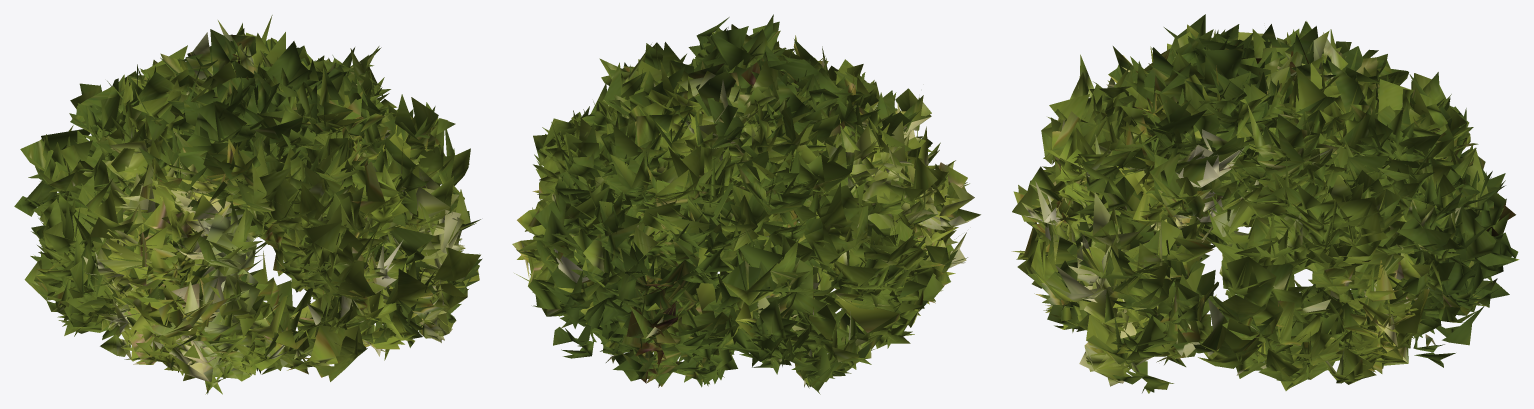
File: bush01.glb
3 renders of one model, left to right at view 1: azimuth 30°, elevation 25°; view 2: azimuth 150°, elevation 25°; view 3: azimuth 270°, elevation 25°, orthographic. The views are drawn at different scales.
Parts seen in each view (by area): view 1: Bush Acer Platanoides ShurbSymmetry N160219; view 2: Bush Acer Platanoides ShurbSymmetry N160219; view 3: Bush Acer Platanoides ShurbSymmetry N160219.
Part boxes in pixels (<box>): Bush Acer Platanoides ShurbSymmetry N160219: <box>14,15,482,394</box>; Bush Acer Platanoides ShurbSymmetry N160219: <box>512,14,980,394</box>; Bush Acer Platanoides ShurbSymmetry N160219: <box>1011,14,1519,393</box>.
Bounding box in the file's own units: 311 × 203 × 309.
Materials: 1 (1 with a texture image).
